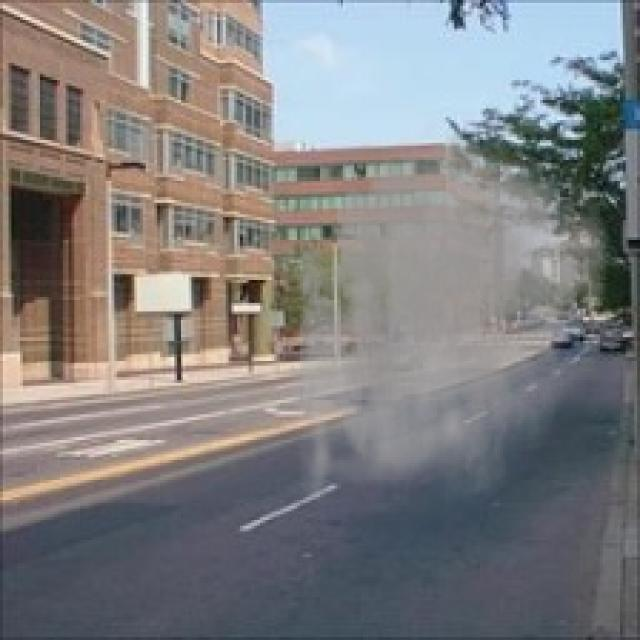Smoke: (271, 111, 620, 518)
